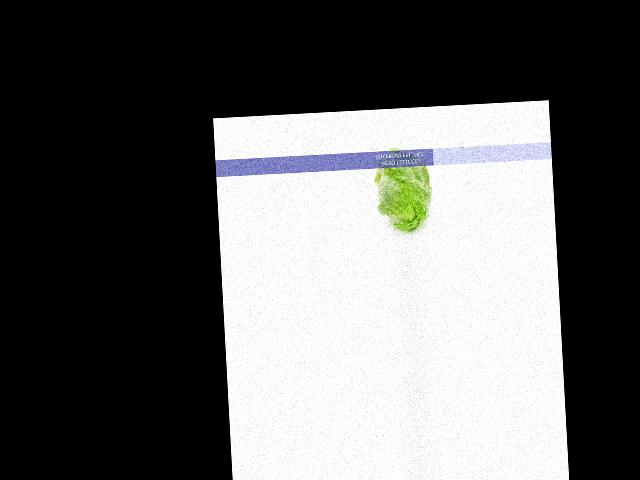lettuce: (373, 146, 431, 236)
